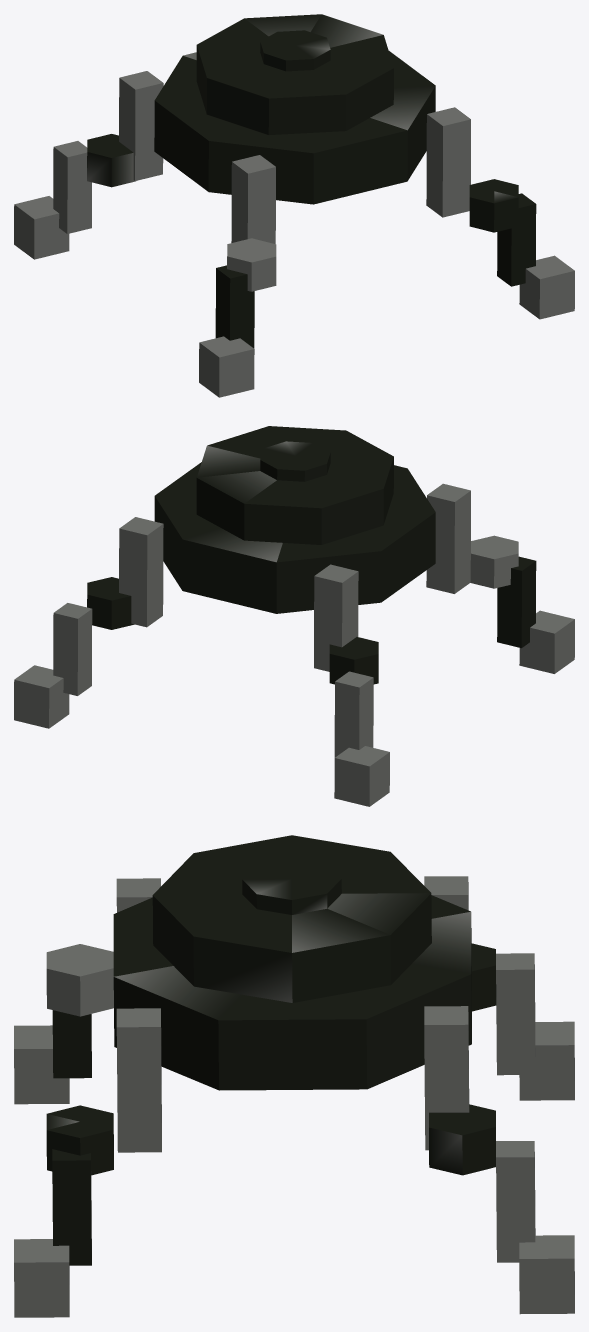
File: Dron1xl.fbx
3 renders of one model, top to bottom at view 1: azimuth 30°, elevation 25°; view 2: azimuth 150°, elevation 25°; view 3: azimuth 270°, elevation 25°, orthographic. The views are drawn at different scales.
Parts seen in each view (by area): view 1: dron_lowpoly; view 2: dron_lowpoly; view 3: dron_lowpoly.
Boxes of the visible parts, left/top/right/bottom form: dron_lowpoly: left=14, top=14, right=574, bottom=397; dron_lowpoly: left=14, top=426, right=574, bottom=806; dron_lowpoly: left=14, top=835, right=574, bottom=1317.
Bounding box in the file's own units: 558 × 352 × 559.
